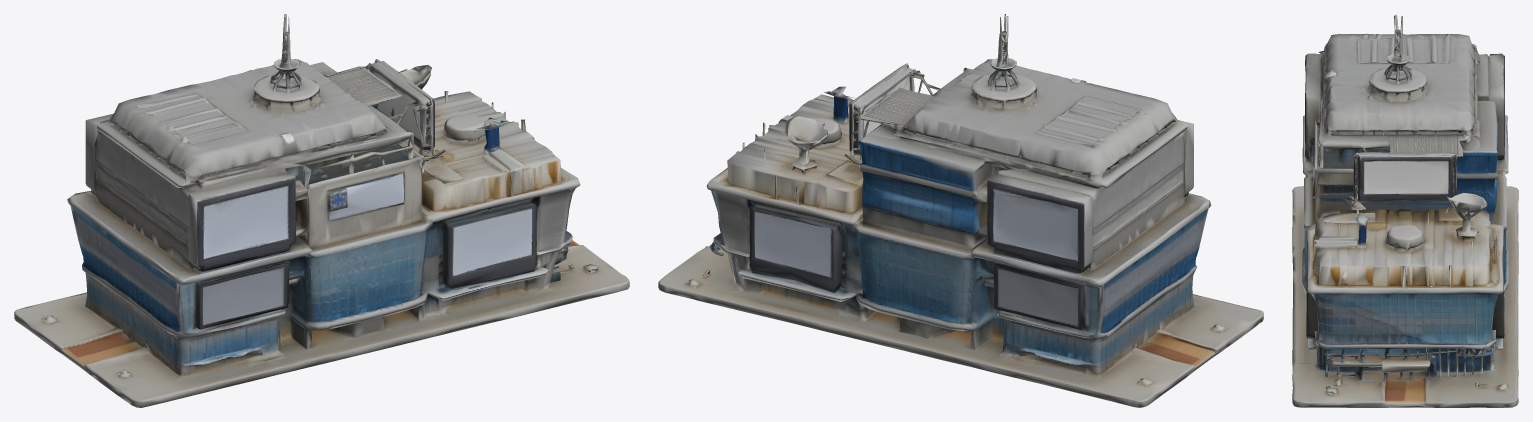
The model's file is SignalTV_Higgsfield_Raw.glb.
3 views of the same model, side by side, from view 1: azimuth 30°, elevation 25°; view 2: azimuth 150°, elevation 25°; view 3: azimuth 270°, elevation 25° (orthographic). The views are drawn at different scales.
Parts seen in each view (by area): view 1: tripo_node_fbf024bb-3672-47ca-ae5b-37cc9845ea23; view 2: tripo_node_fbf024bb-3672-47ca-ae5b-37cc9845ea23; view 3: tripo_node_fbf024bb-3672-47ca-ae5b-37cc9845ea23.
Part boxes in pixels (x1,y1,x2,y2): tripo_node_fbf024bb-3672-47ca-ae5b-37cc9845ea23: (14, 14, 629, 407); tripo_node_fbf024bb-3672-47ca-ae5b-37cc9845ea23: (658, 14, 1263, 407); tripo_node_fbf024bb-3672-47ca-ae5b-37cc9845ea23: (1292, 14, 1518, 407).
Size of the model in its own units: 1 by 0.5812 by 0.4416.
1 material, 1 textured.
